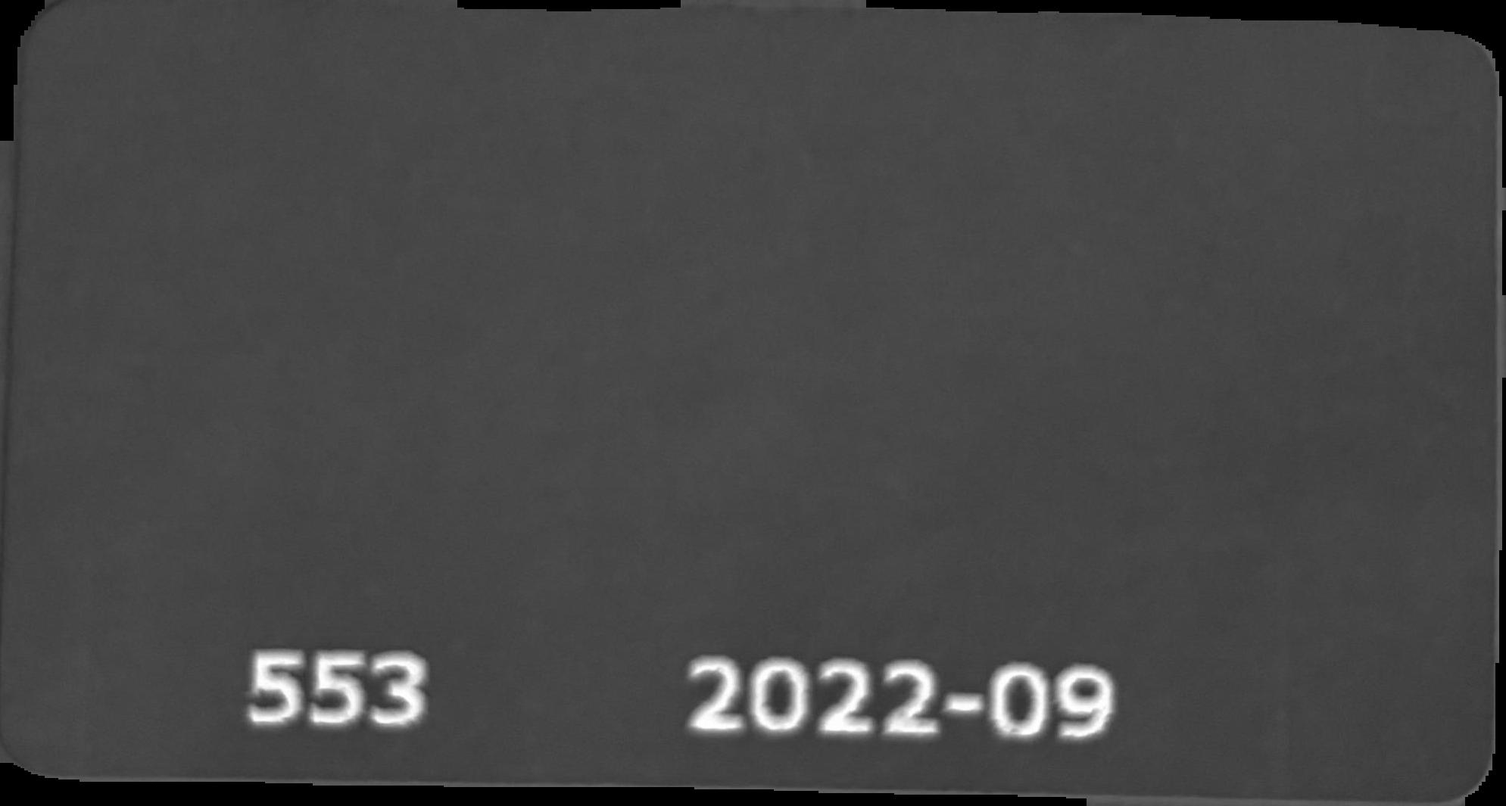text: (686, 650, 1117, 755), (247, 647, 429, 740)
